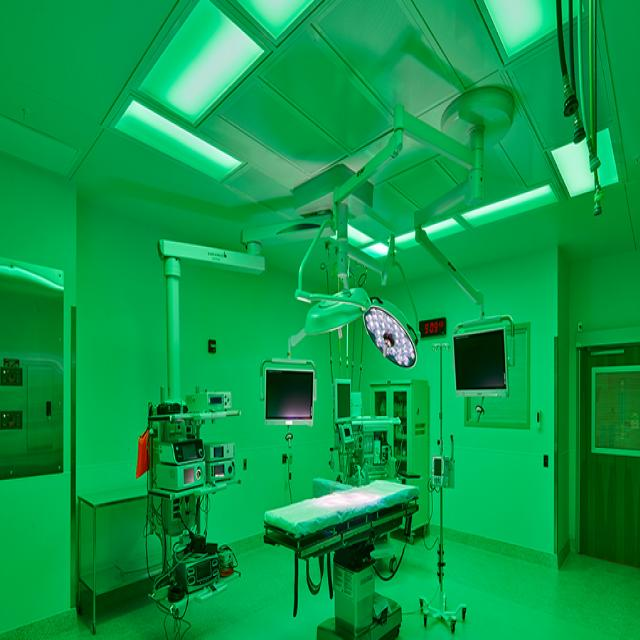cardiac_monitor: (260, 364, 322, 446)
lightings: (366, 297, 425, 379)
patient_bed: (280, 471, 428, 586)
ventilator: (137, 369, 249, 594)
